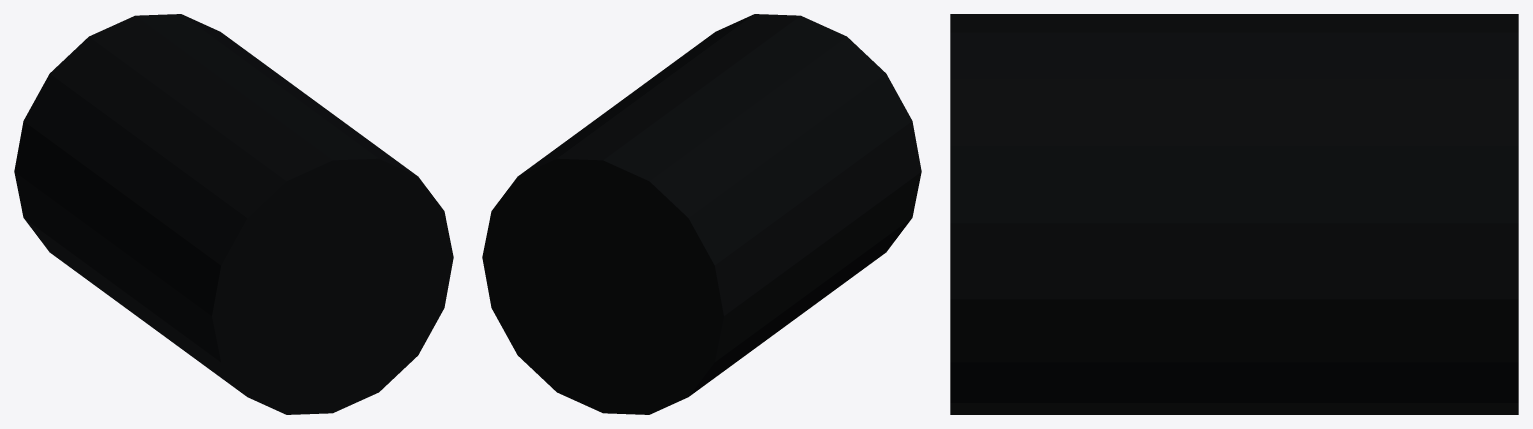
File: Cannon20__Pitch.obj
The picture shows the model from 3 angles, left to right: view 1: azimuth 30°, elevation 25°; view 2: azimuth 150°, elevation 25°; view 3: azimuth 270°, elevation 25°; orthographic projection. The views are drawn at different scales.
Visible parts, largest first — view 1: Breech_rotor_housing; view 2: Breech_rotor_housing; view 3: Breech_rotor_housing.
Part boxes in pixels (x1,y1,x2,y2): Breech_rotor_housing: (14,14,453,414); Breech_rotor_housing: (482,14,921,414); Breech_rotor_housing: (950,14,1518,414).
Bounding box in the file's own units: 0.36 × 0.36 × 0.51.
